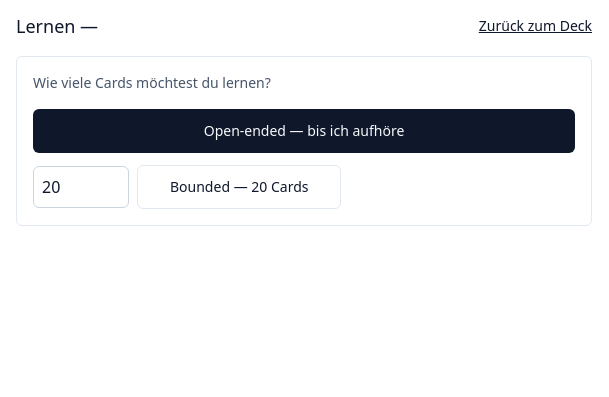
Test: Edit-during-Review (issue #6) › renders a pencil-icon edit button on the review screen
The width and height of the screenshot is (609, 397).
Click the button "Open-ended — bis ich aufhöre": (304, 131) [33,109,575,153]
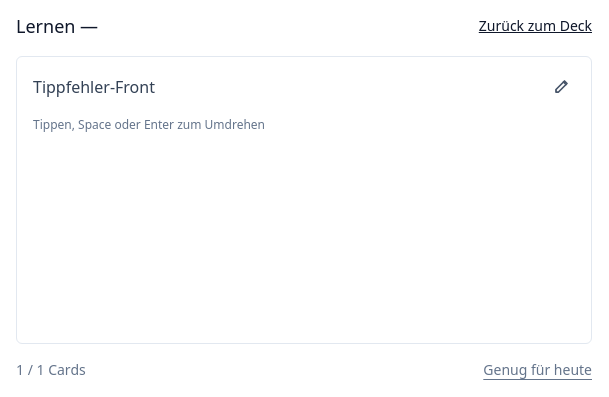
Expected: the button named "Card bearbeiten" is shown, [540,64,584,108]
